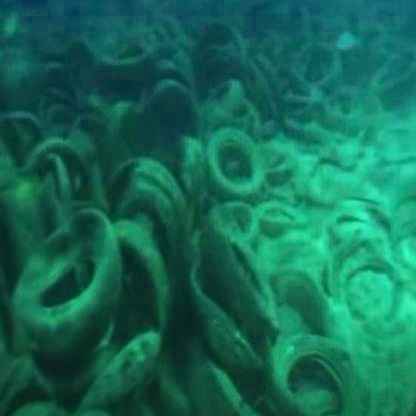tire: (23, 216, 136, 360), (250, 318, 370, 416), (211, 230, 285, 376), (130, 217, 198, 351), (201, 132, 257, 202)
